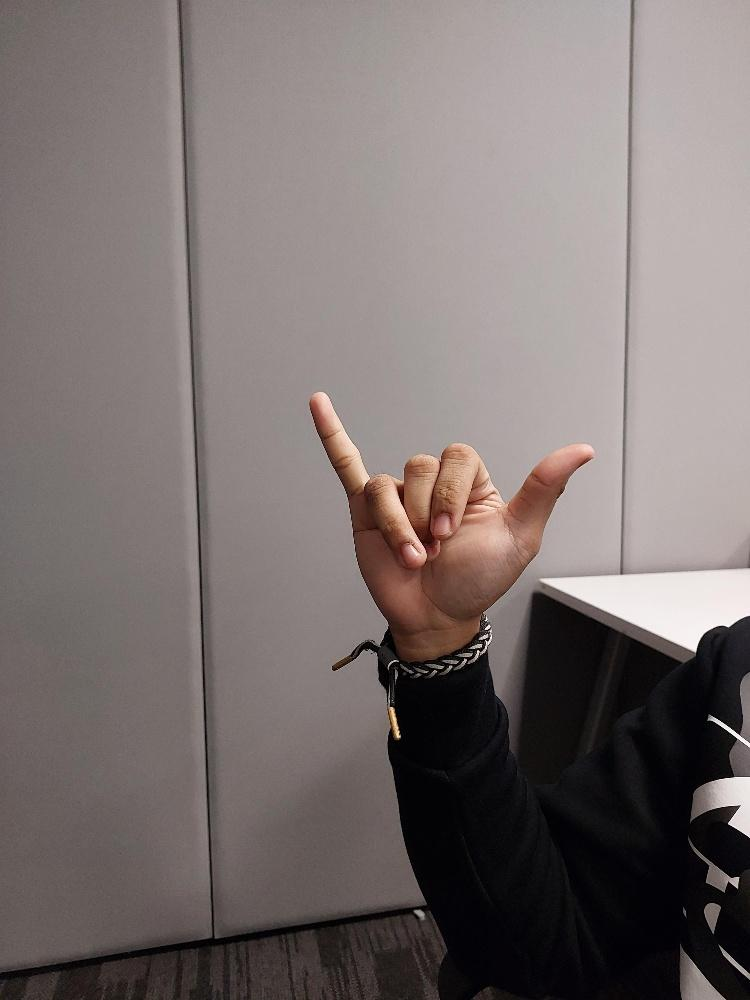y: (307, 390, 595, 637)
